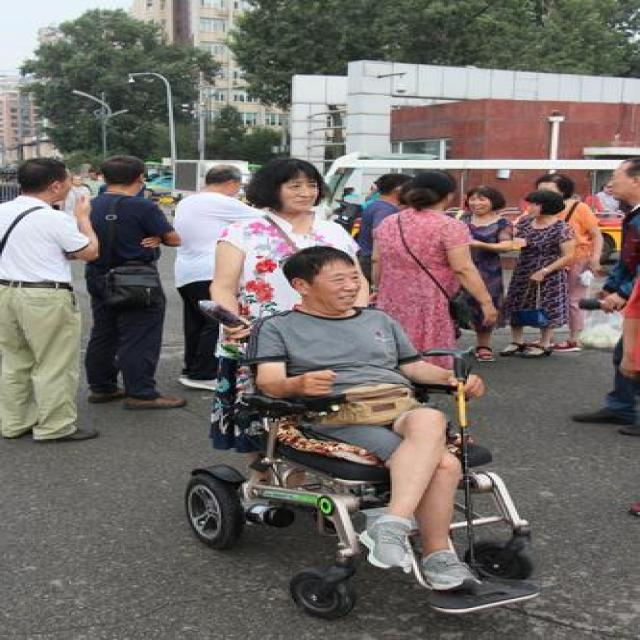wheelchairs: (196, 337, 578, 622)
